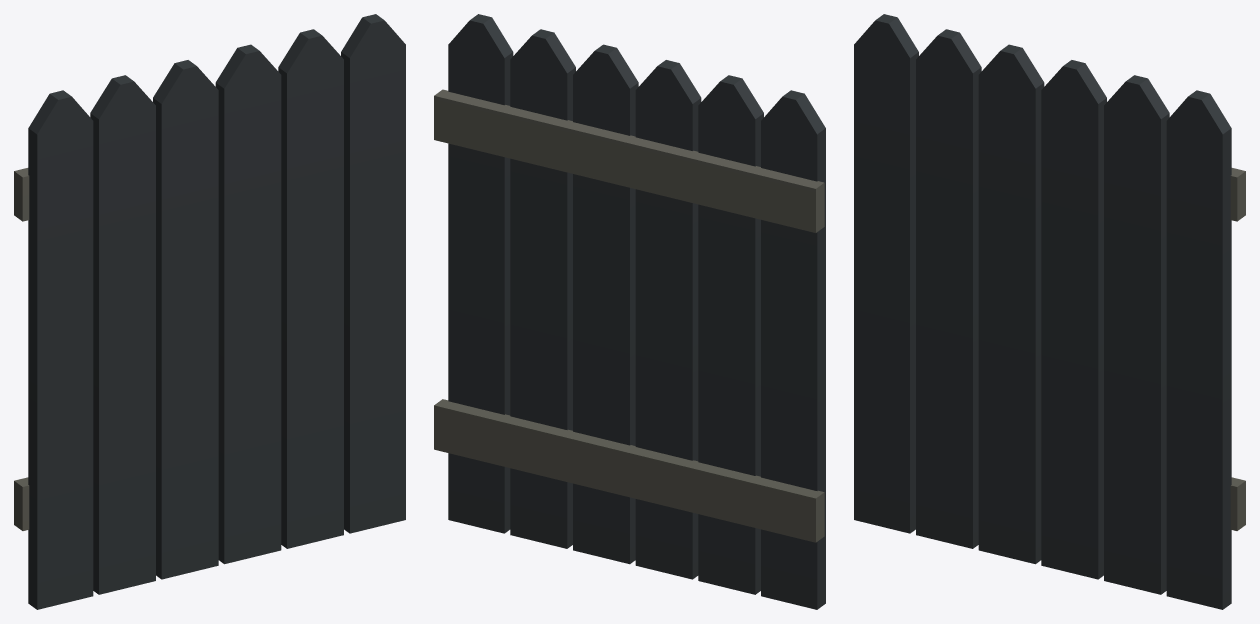
Rendered from Fence_05.fbx.
The picture shows the model from 3 angles, left to right: view 1: azimuth 30°, elevation 25°; view 2: azimuth 150°, elevation 25°; view 3: azimuth 330°, elevation 25°; orthographic projection.
Parts seen in each view (by area): view 1: Fence_05; view 2: Fence_05; view 3: Fence_05.
Part boxes in pixels (x1=…): Fence_05: x1=14, y1=14, x2=405, y2=609; Fence_05: x1=434, y1=14, x2=825, y2=609; Fence_05: x1=854, y1=14, x2=1245, y2=609.
Size of the model in its own units: 1.02 by 1.29 by 0.0766.
